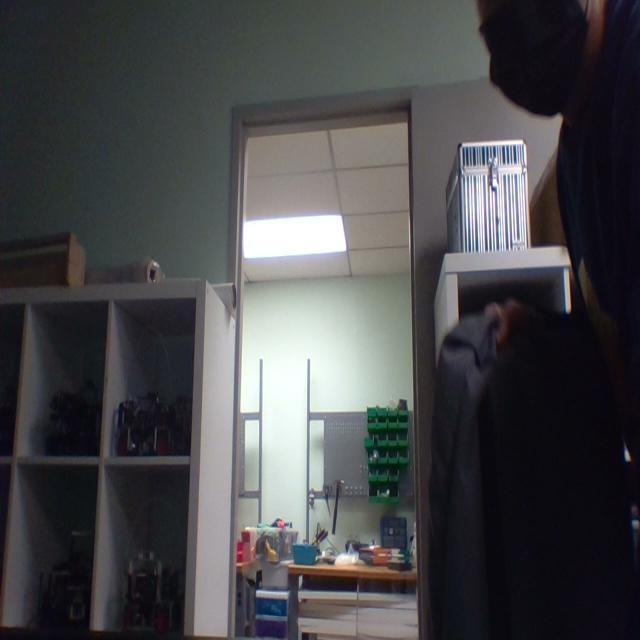Backpacks: (438, 326, 516, 639)
